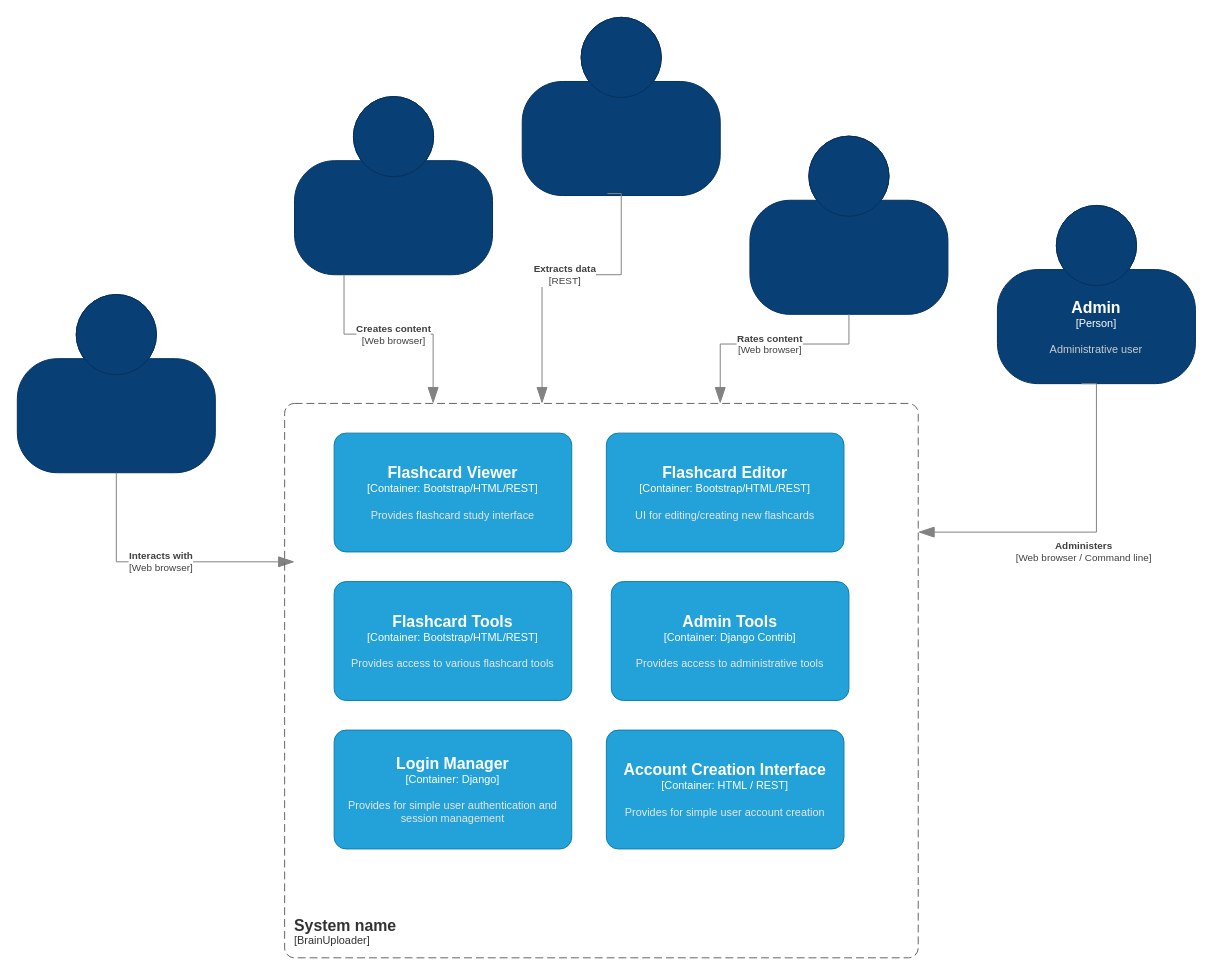
The diagram is 1213 pixels wide and 975 high, and some of its shapes have lost their labels. Here are the shapes that lost their labels. From the top down, the centre of each, then its label:
At point 620,106: "AI Researcher [Person] One who accesses flashcard data".
At point 393,185: "Instructor [Person] One who creates flashcards".
At point 848,224: "Critic [Person] One who rates flashcards".
At point 115,383: "Student [Person] One who reviews flashcards".
